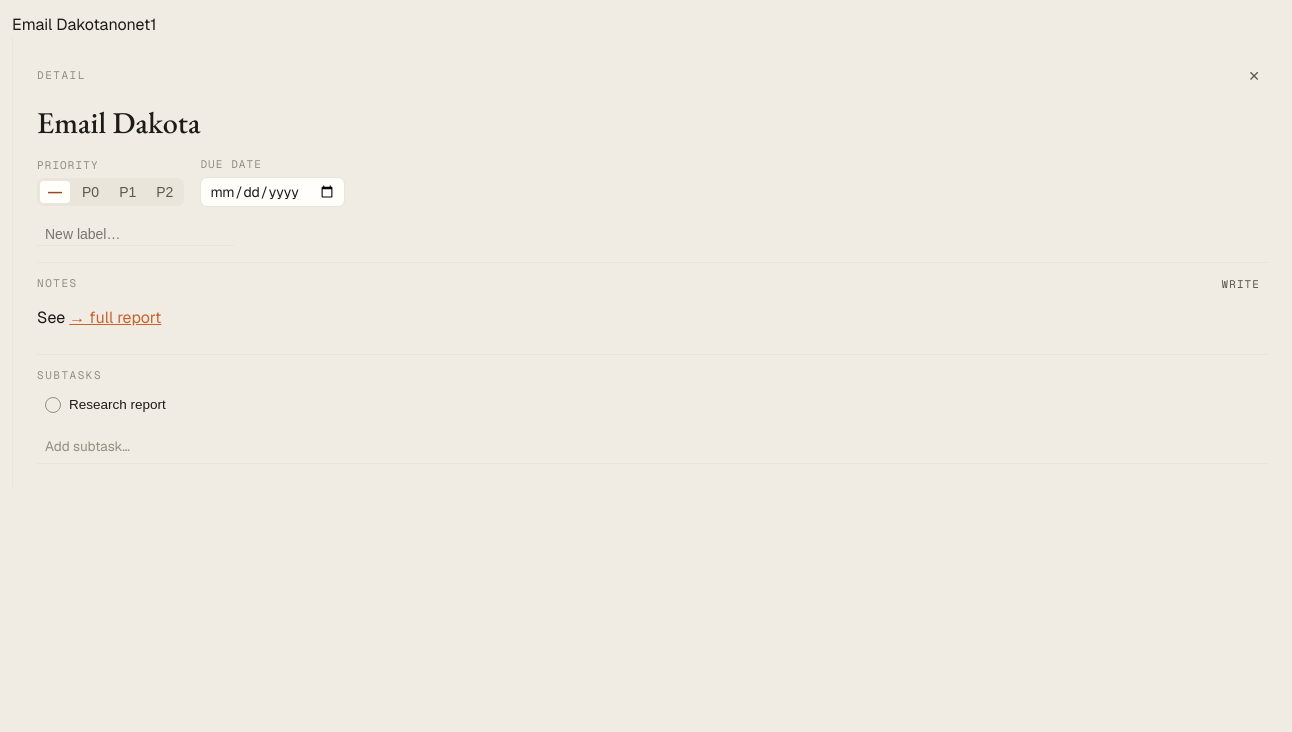
DetailPaneView (store-wired) › clicking the todo: link again collapses the inline report
This screenshot has width=1292, height=732.
Click the button "→ full report" at (115,318), box [69, 306, 161, 330]
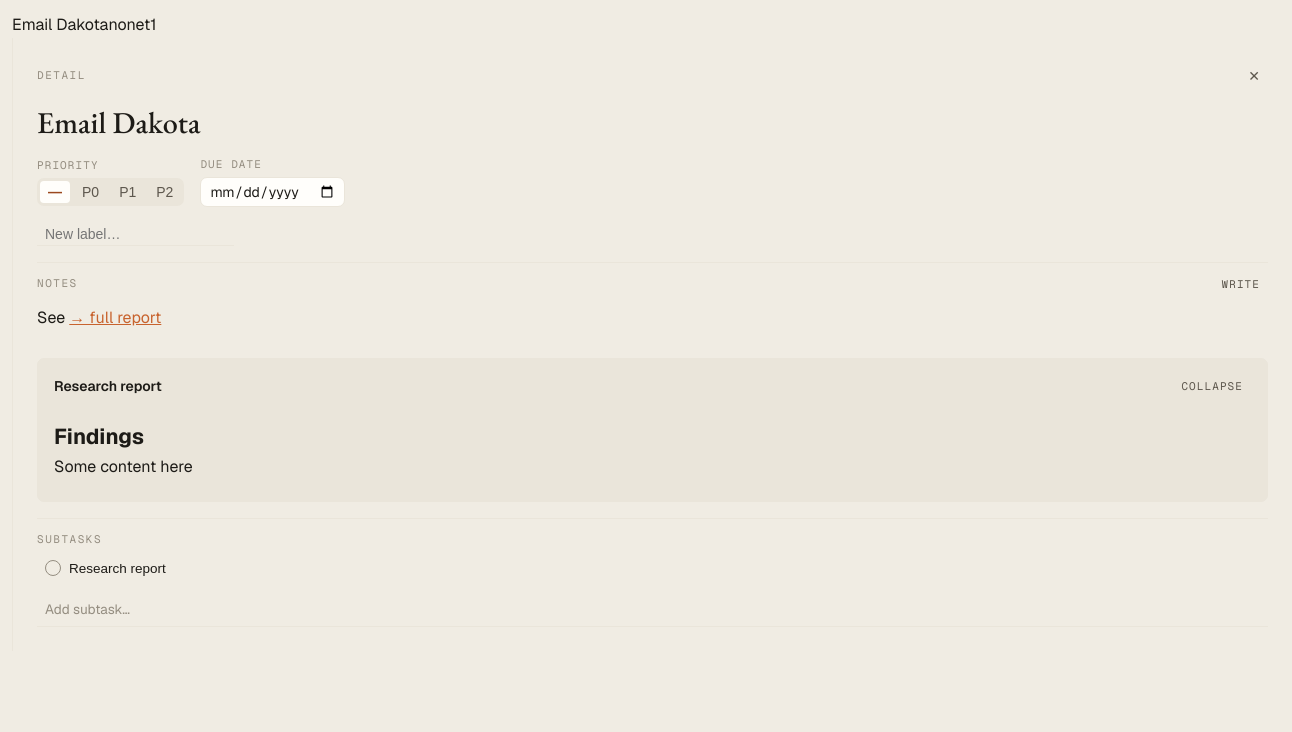
Expected: the button "Collapse" is shown, [1173, 377, 1251, 395]
Click the button "→ full report" at (115,318), box [69, 306, 161, 330]
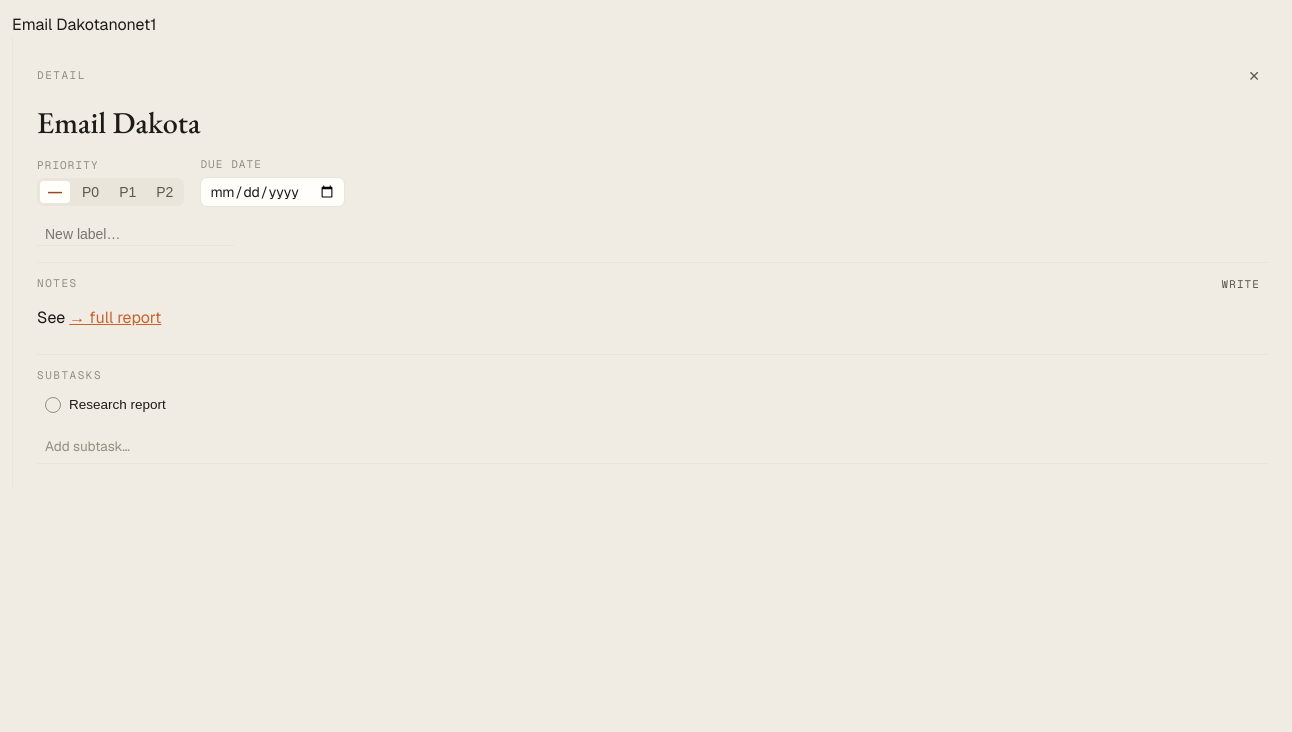
Expected: the button "Collapse" is gone
